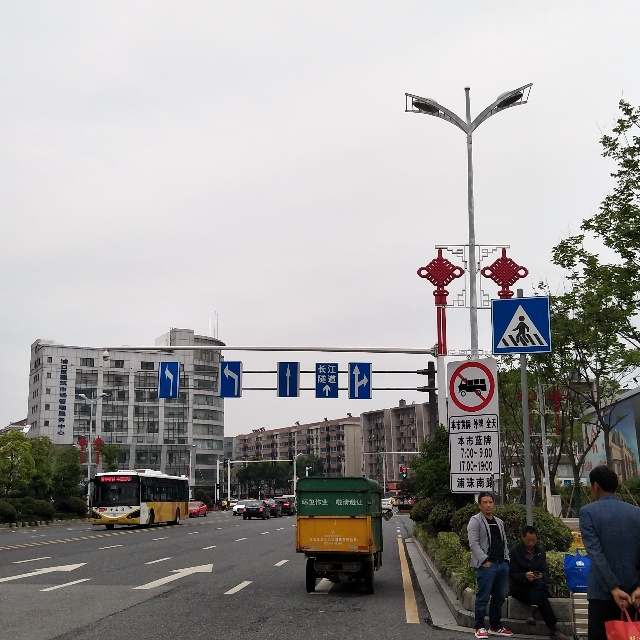crosswalk: (493, 297, 552, 351)
left: (159, 361, 182, 399), (218, 364, 243, 397)
straight: (277, 360, 297, 398), (317, 381, 338, 399)
